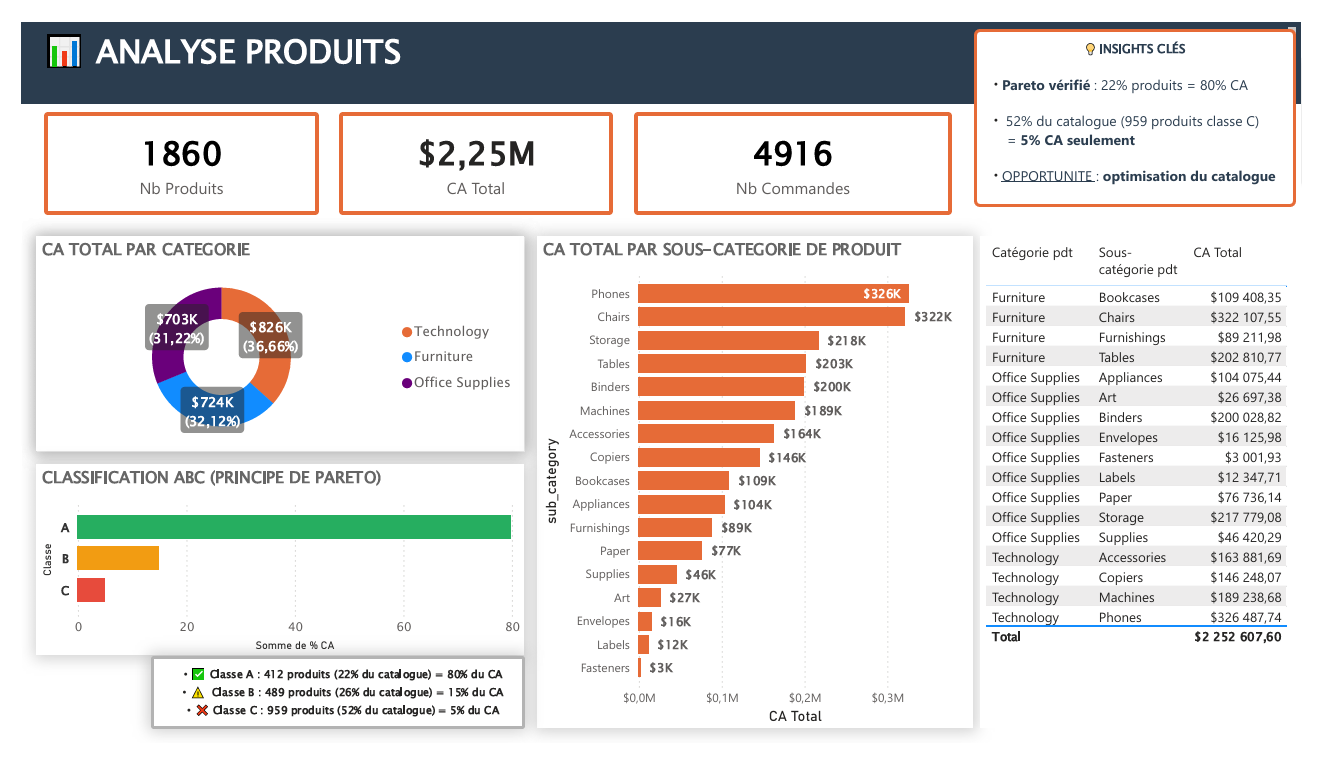

This screenshot's page, from the dashboard's own definition file:
{"tool":"powerbi","page":{"name":"Analyse produits","canvas":[1280,720],"ordinal":3},"visuals":[{"type":"textbox","box":[0,0,1280,81.8],"z":0},{"type":"card","fields":{"Values":["MESURE.Nb Produits"]},"box":[22.4,89.5,274.3,102.1],"z":1000},{"type":"card","fields":{"Values":["MESURE.CA Total"]},"box":[317.1,89.5,274.3,102.1],"z":2000},{"type":"card","fields":{"Values":["MESURE.Nb Commandes"]},"box":[611.8,89.5,318.1,102.1],"z":3000},{"type":"donutChart","title":"CA TOTAL PAR CATEGORIE","fields":{"Category":["dim_product.category"],"Y":["MESURE.CA Total"]},"box":[15,214,488,215],"z":5000},{"type":"clusteredBarChart","title":"CA TOTAL PAR  SOUS-CATEGORIE DE PRODUIT","fields":{"Category":["dim_product.sub_category"],"Y":["MESURE.CA Total"]},"box":[516.5,214,435.7,492.2],"z":6000},{"type":"barChart","title":" CLASSIFICATION ABC (PRINCIPE DE PARETO)","fields":{"Category":["Classification_ABC.Classe"],"Y":["Sum(Classification_ABC.% CA)"]},"box":[14.6,441.6,488.3,191.6],"z":7000},{"type":"tableEx","fields":{"Values":["dim_product.category","dim_product.sub_category","MESURE.CA Total"]},"box":[959,214,321,492.2],"z":8000},{"type":"textbox","box":[952.2,5.8,321.9,178],"z":9000},{"type":"textbox","box":[129.4,633.2,373.5,72.9],"z":10000}]}

Visuals, with their boxes in screenshot pixels (x1, y1, x2, y2), scaled from the page's 1280x720 canvas onto the 1326x766 screenshot:
textbox: <bbox>0, 0, 1325, 87</bbox>
card - MESURE.Nb Produits: <bbox>23, 95, 307, 204</bbox>
card - MESURE.CA Total: <bbox>328, 95, 613, 204</bbox>
card - MESURE.Nb Commandes: <bbox>634, 95, 963, 204</bbox>
"CA TOTAL PAR CATEGORIE" donutChart: <bbox>16, 228, 521, 456</bbox>
"CA TOTAL PAR  SOUS-CATEGORIE DE PRODUIT" clusteredBarChart: <bbox>535, 228, 986, 751</bbox>
" CLASSIFICATION ABC (PRINCIPE DE PARETO)" barChart: <bbox>15, 470, 521, 674</bbox>
tableEx - dim_product.category x dim_product.sub_category: <bbox>993, 228, 1325, 751</bbox>
textbox: <bbox>986, 6, 1320, 196</bbox>
textbox: <bbox>134, 674, 521, 751</bbox>
